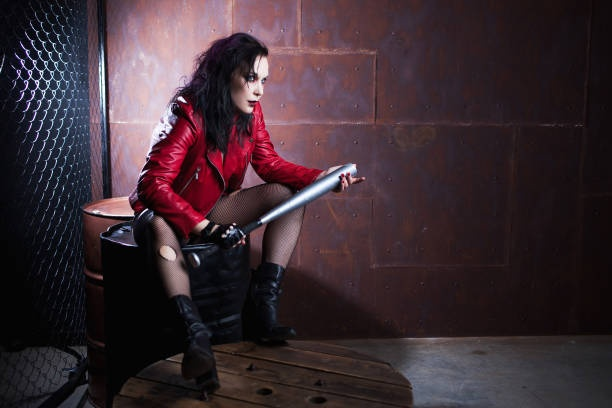bita: (186, 165, 356, 263)
